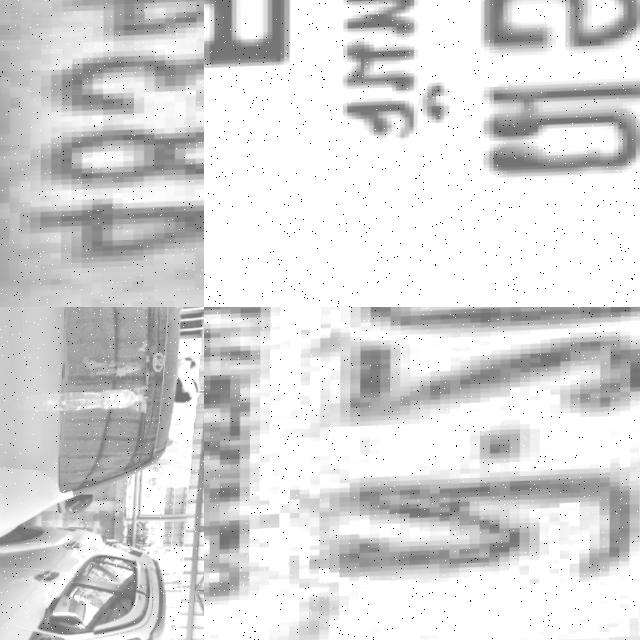license-plate: (204, 307, 640, 640), (204, 0, 640, 307), (0, 0, 204, 307)
